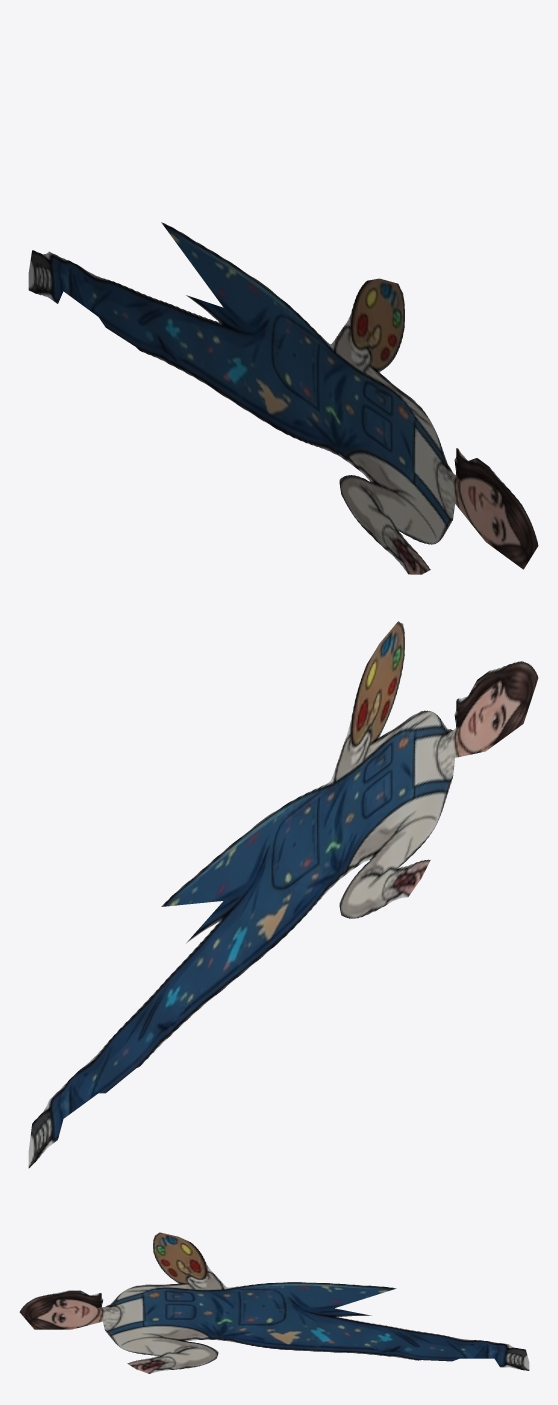
File: person.obj
3 renders of one model, top to bottom at view 1: azimuth 30°, elevation 25°; view 2: azimuth 150°, elevation 25°; view 3: azimuth 270°, elevation 25°, orthographic. The views are drawn at different scales.
Visible parts, largest first — view 1: person_cutout; view 2: person_cutout; view 3: person_cutout.
Boxes of the visible parts, x1=… form: person_cutout: x1=28, y1=222, x2=538, y2=574; person_cutout: x1=28, y1=621, x2=538, y2=1168; person_cutout: x1=19, y1=1232, x2=529, y2=1373.
Size of the model in its own units: 0 by 0.0497 by 0.15.
